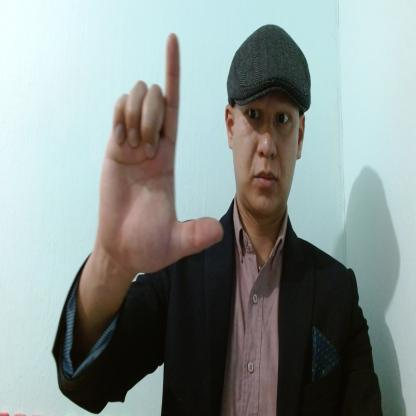L: (99, 34, 223, 272)
